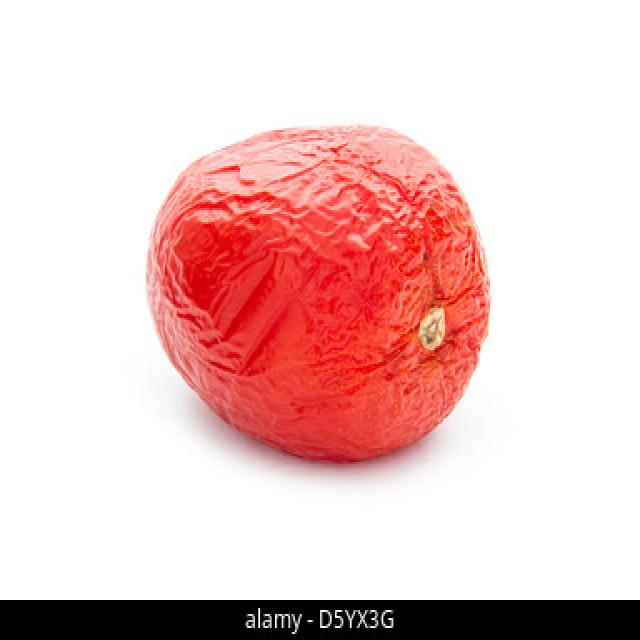overripe: (142, 120, 496, 465)
